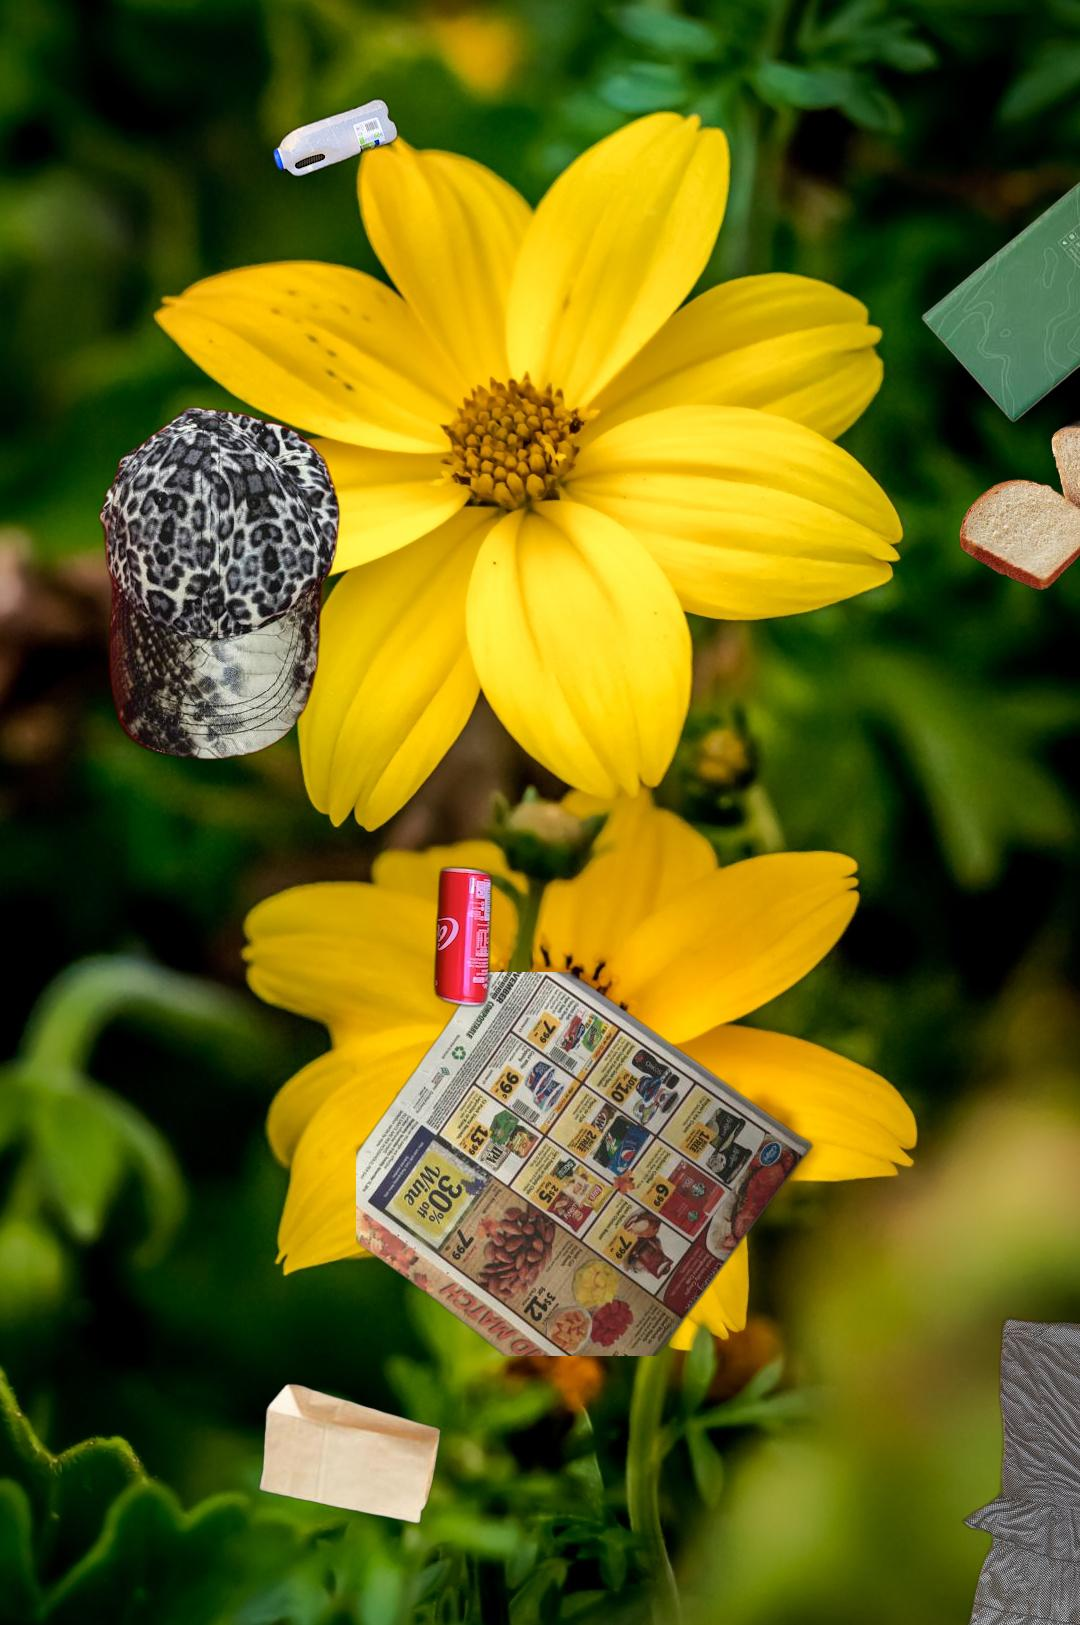biological: (956, 415, 1080, 593)
clothes: (96, 403, 344, 764), (945, 1315, 1080, 1625)
metal-cans: (429, 861, 497, 1011)
paper: (356, 972, 817, 1356), (917, 105, 1080, 426)
paper-bag: (256, 1381, 444, 1526)
plastic-bottles: (269, 93, 403, 182)
